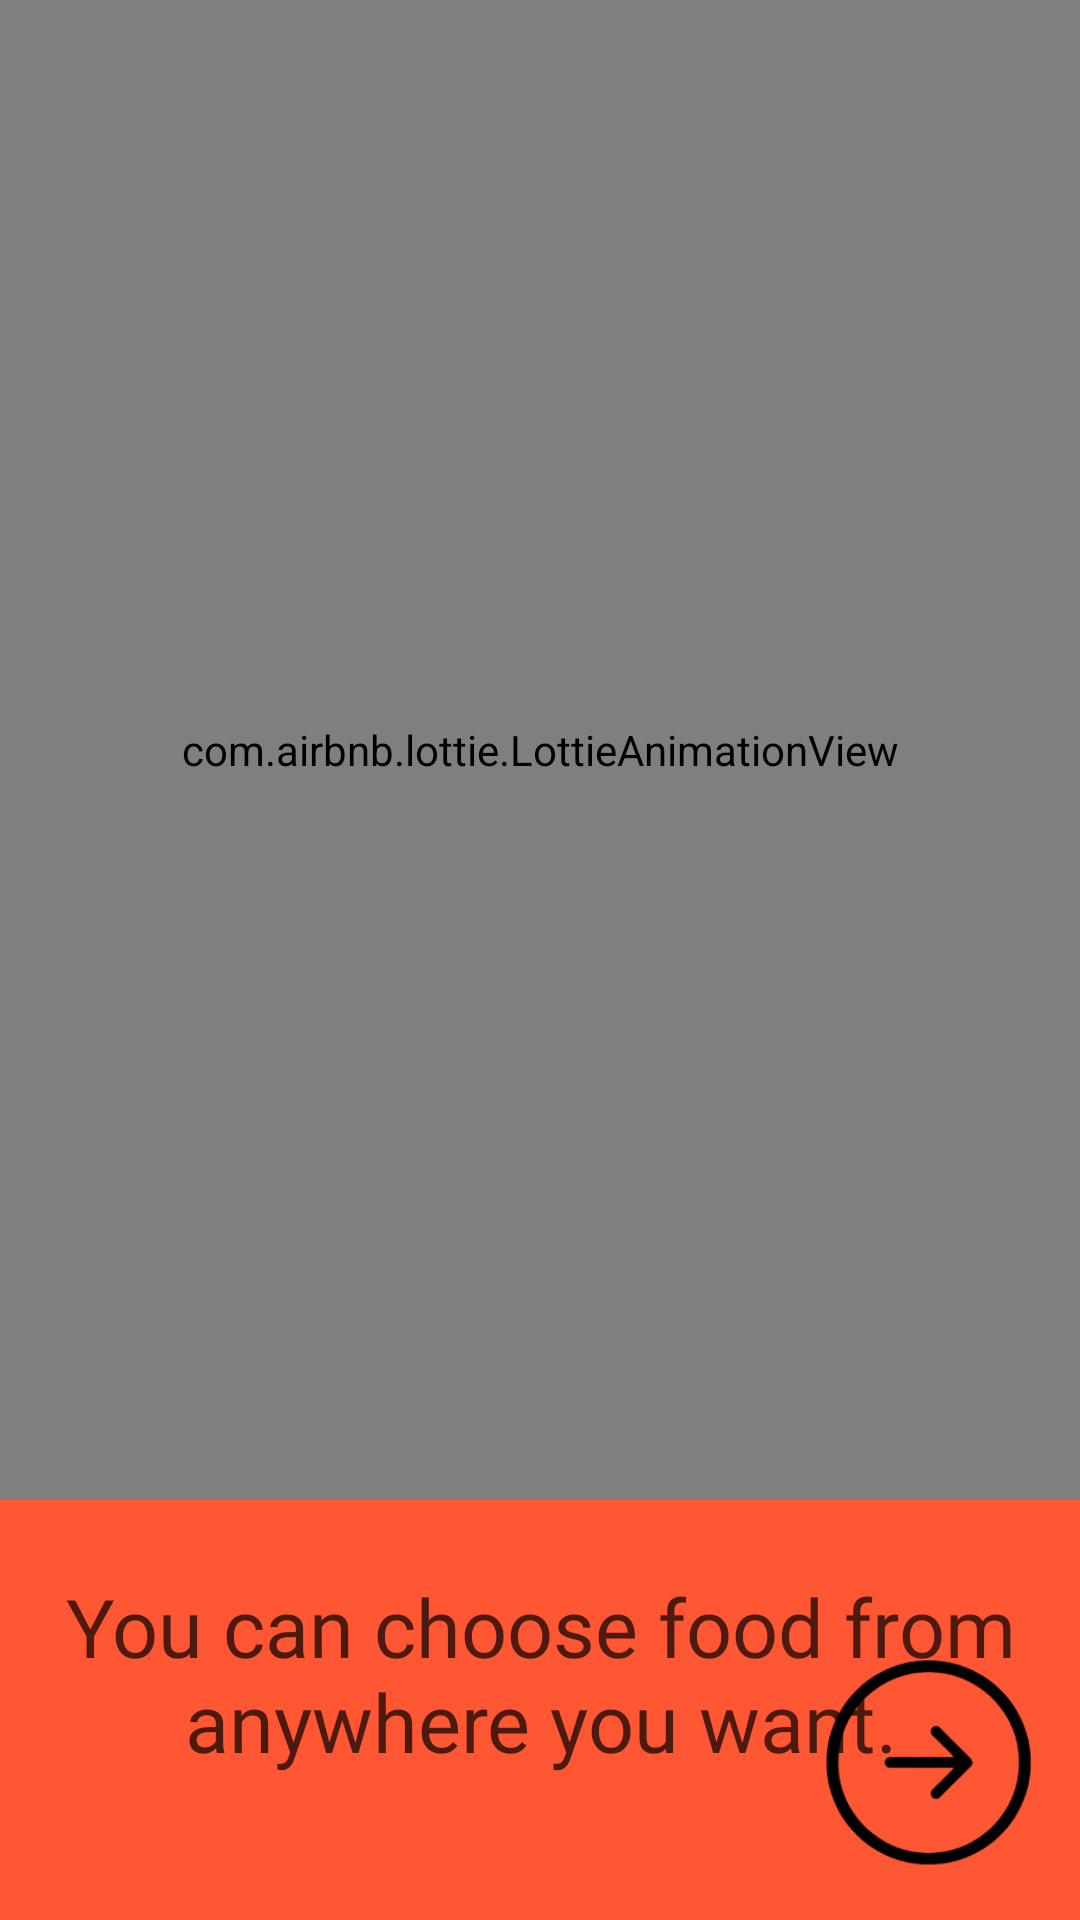

Where icons sit on this 1080 x 1920 app screen, as (x1, y1, x2, y2):
nextarr: (825, 1653, 1031, 1865)
